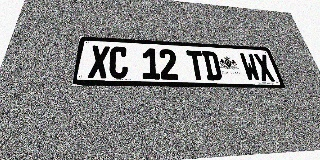1: (142, 48, 160, 79)
2: (159, 49, 178, 80)
C: (108, 46, 128, 79)
D: (202, 51, 223, 81)
T: (186, 50, 207, 80)
W: (239, 53, 262, 81)
X: (88, 45, 110, 78), (253, 54, 276, 82)
